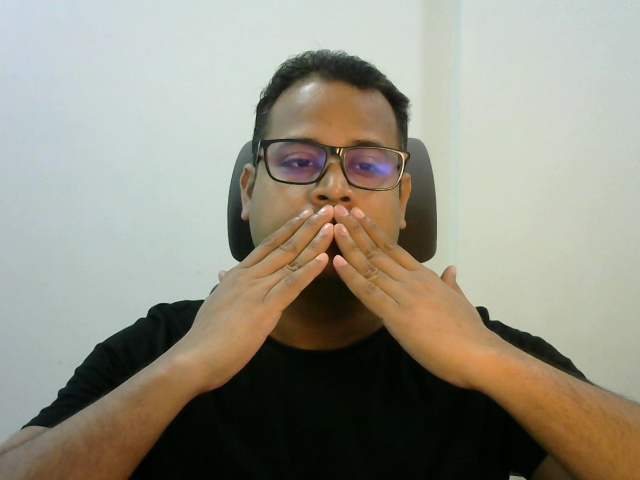ThankYou: (194, 205, 483, 390)
